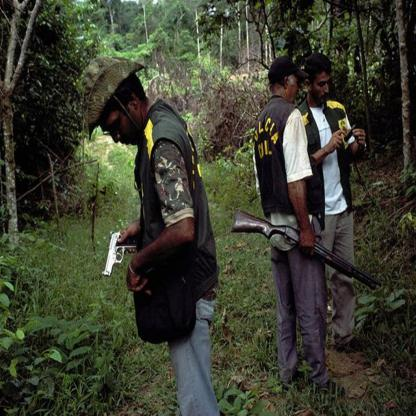face: (100, 107, 143, 146), (313, 74, 333, 105), (285, 75, 299, 105)
